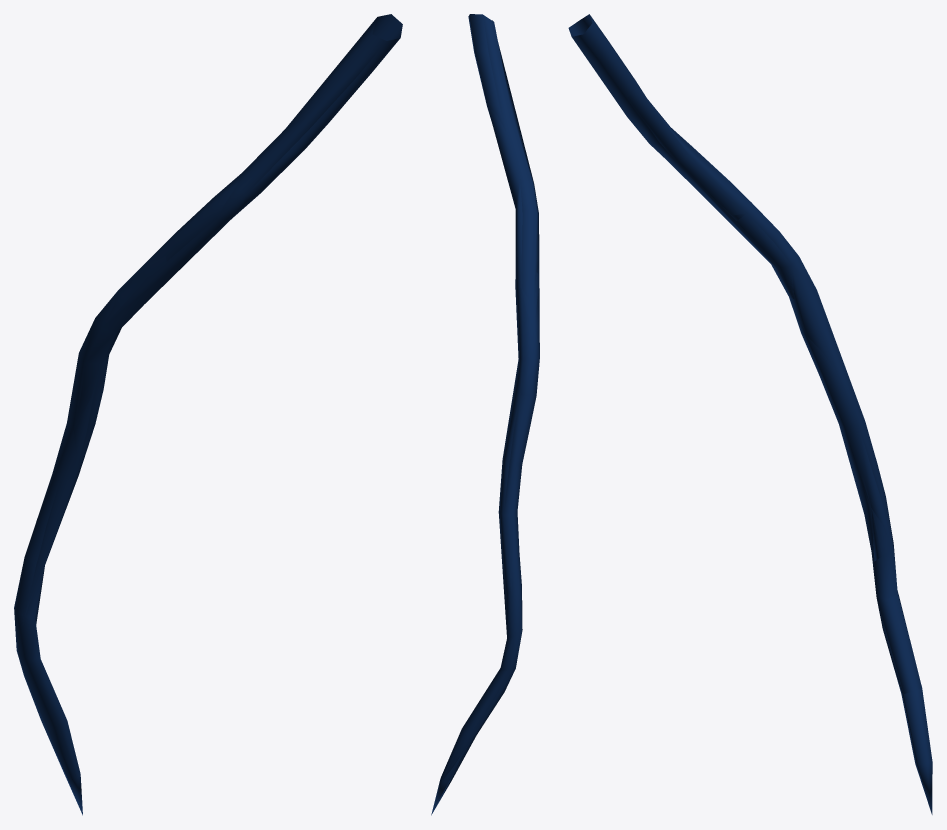
The model's file is L vena poplitea.fbx.
The picture shows the model from 3 angles, left to right: view 1: azimuth 30°, elevation 25°; view 2: azimuth 150°, elevation 25°; view 3: azimuth 270°, elevation 25°; orthographic projection. The views are drawn at different scales.
Visible parts, largest first — view 1: L vena poplitea, L vena poplitea low; view 2: L vena poplitea, L vena poplitea low; view 3: L vena poplitea, L vena poplitea low.
Boxes of the visible parts, <box> form: L vena poplitea: <box>14,38,400,814</box>; L vena poplitea low: <box>14,14,402,810</box>; L vena poplitea: <box>431,14,539,815</box>; L vena poplitea low: <box>435,15,539,808</box>; L vena poplitea: <box>569,14,932,814</box>; L vena poplitea low: <box>568,28,921,693</box>.
Bounding box in the file's own units: 3.99 × 15.01 × 5.8.
